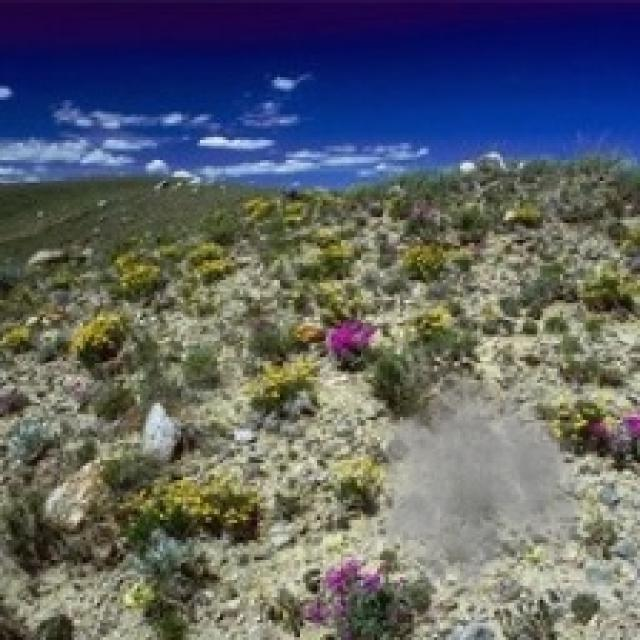smoke: (366, 360, 600, 600)
